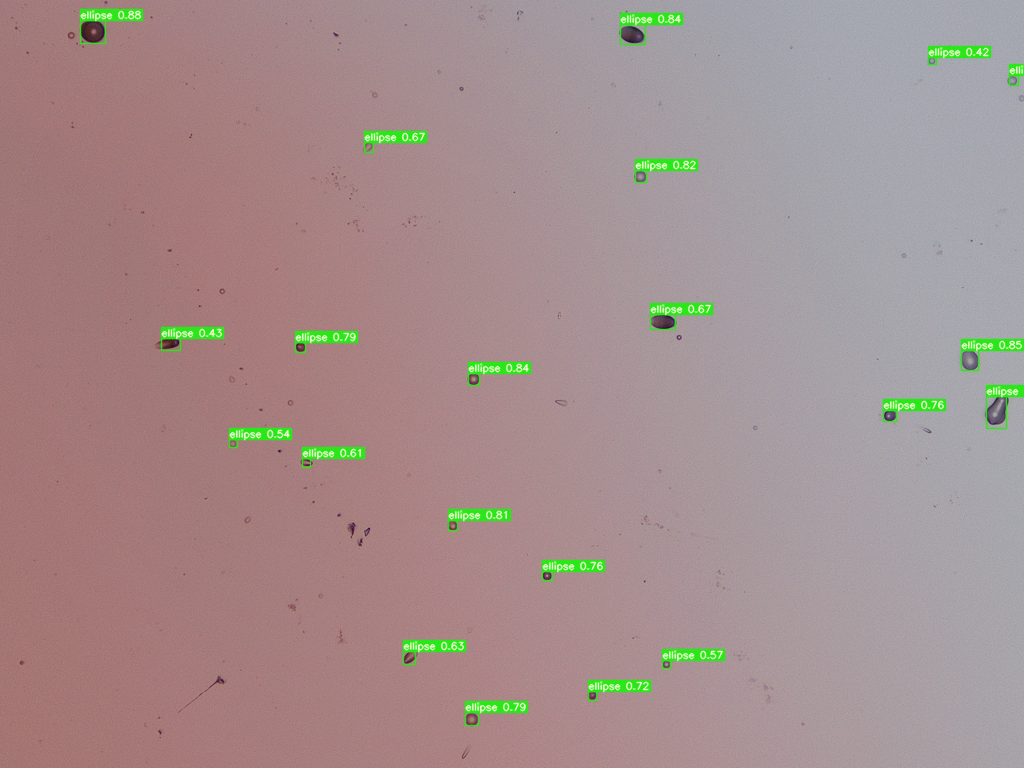circle: (465, 713, 477, 725), (467, 373, 479, 384), (635, 171, 645, 182), (448, 520, 457, 529), (296, 342, 304, 351), (543, 571, 551, 579), (1008, 76, 1016, 84), (588, 691, 595, 699), (663, 661, 669, 667), (229, 441, 235, 446), (929, 58, 935, 63), (1019, 95, 1024, 100), (68, 32, 73, 37), (219, 288, 224, 293), (288, 400, 292, 404)
ellipse: (80, 19, 104, 42), (619, 25, 644, 43), (960, 349, 979, 370), (650, 314, 676, 329), (300, 459, 312, 465), (554, 400, 568, 405)
